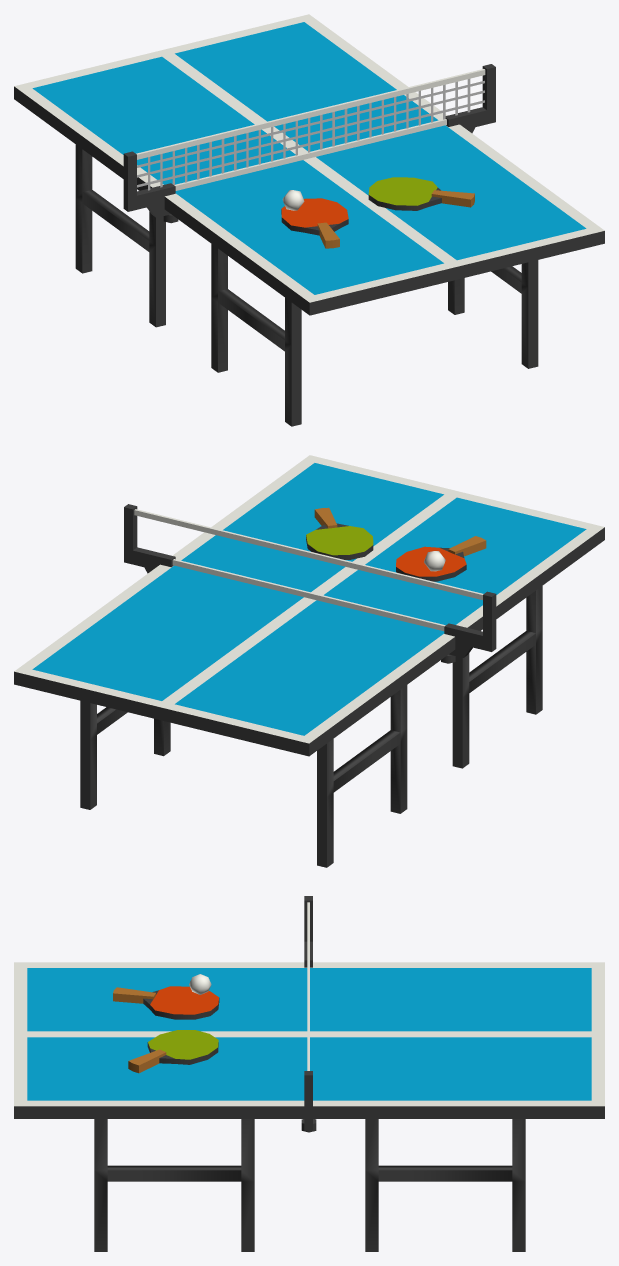
The model's file is PingPongTable.glb.
3 renders of one model, top to bottom at view 1: azimuth 30°, elevation 25°; view 2: azimuth 150°, elevation 25°; view 3: azimuth 270°, elevation 25°, orthographic.
Parts seen in each view (by area): view 1: Box125, Plane031, Plane033, Plane025, Plane026, Box126, Plane030, Line026, Plane029, Line025; view 2: Box125, Plane033, Plane031, Plane025, Box126, Plane032, Line026, Line025; view 3: Box125, Plane032, Plane030, Line025, Line026, Box126, Plane025.
Part boxes in pixels (<box>): Box125: <box>14,14,604,315</box>; Plane031: <box>211,244,301,426</box>; Plane033: <box>75,144,165,327</box>; Plane025: <box>136,69,485,190</box>; Plane026: <box>137,80,484,187</box>; Box126: <box>123,64,495,223</box>; Plane030: <box>448,260,538,368</box>; Line026: <box>368,177,474,210</box>; Plane029: <box>148,79,470,190</box>; Line025: <box>281,198,348,248</box>; Box125: <box>14,455,604,756</box>; Plane033: <box>317,685,407,867</box>; Plane031: <box>452,586,542,768</box>; Plane025: <box>134,509,483,631</box>; Box126: <box>124,504,496,663</box>; Plane032: <box>80,700,170,809</box>; Line026: <box>306,507,373,559</box>; Line025: <box>396,536,486,581</box>; Box125: <box>14,962,604,1118</box>; Plane032: <box>365,1119,525,1251</box>; Plane030: <box>94,1119,254,1251</box>; Line025: <box>113,986,219,1019</box>; Line026: <box>128,1030,218,1073</box>; Box126: <box>301,896,316,1132</box>; Plane025: <box>307,902,309,1070</box>.
Bounding box in the file's own units: 1.5 × 0.8051 × 2.08.
